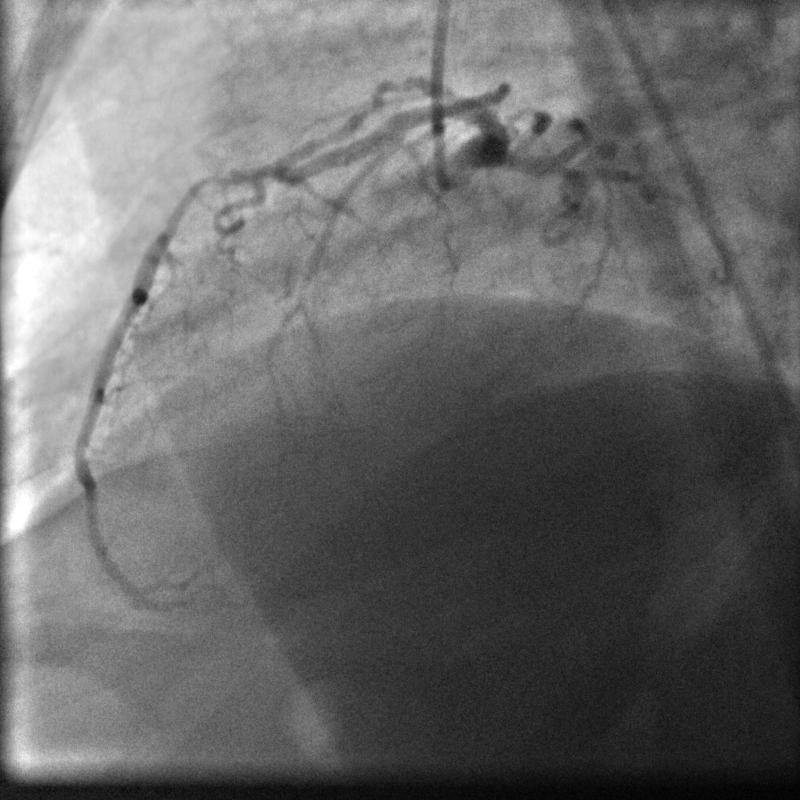Stenosis: (165, 166, 233, 237)
